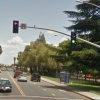Tree: (57, 5, 100, 81)
